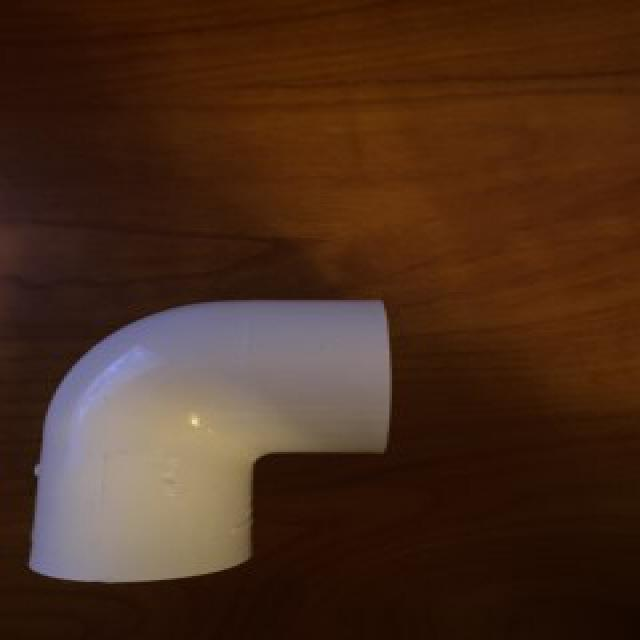L Joint: (26, 299, 393, 587)
